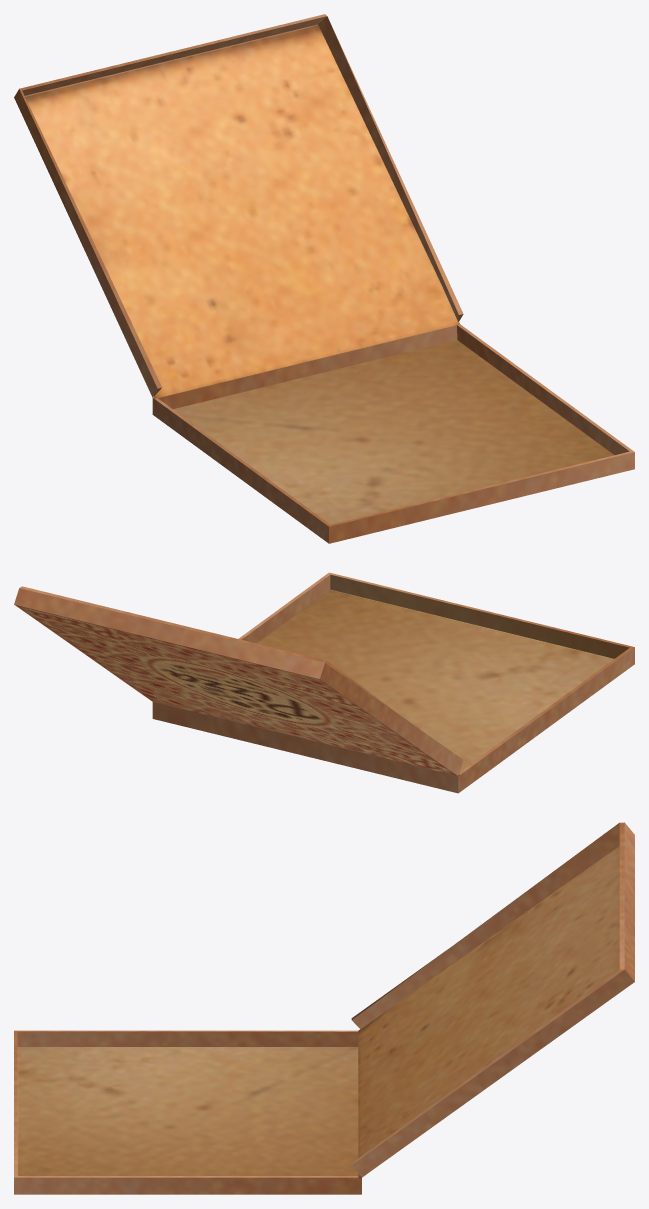
Rendered from pizza_box_clean.obj.
3 views of the same model, one above another, from view 1: azimuth 30°, elevation 25°; view 2: azimuth 150°, elevation 25°; view 3: azimuth 270°, elevation 25° (orthographic).
Parts seen in each view (by area): view 1: pizza_box_clean; view 2: pizza_box_clean; view 3: pizza_box_clean.
Part boxes in pixels (x1,y1,x2,y2): pizza_box_clean: (14,14,634,543); pizza_box_clean: (14,572,634,793); pizza_box_clean: (14,822,634,1194).
Bounding box in the file's own units: 0.5276 × 0.3762 × 0.9413.
